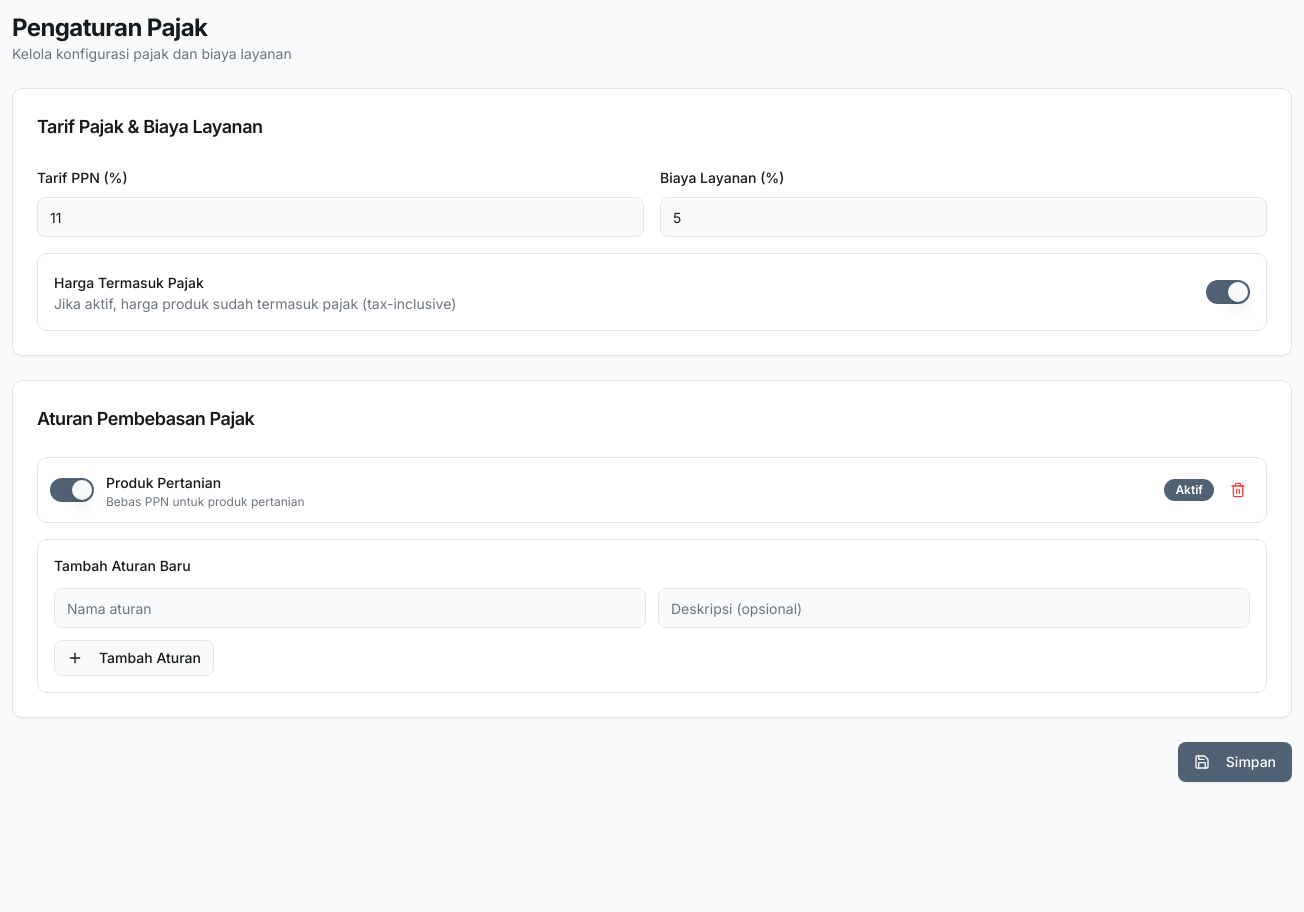
it: TaxSettingsPage › removes an exemption rule
Expected: the text "Produk Pertanian" is shown, [106,474,221,491]
What coordinates should you click on to do the following:
click the 1st button
I would click on:
 (1238, 490)
Its box is [1222,474,1254,506].
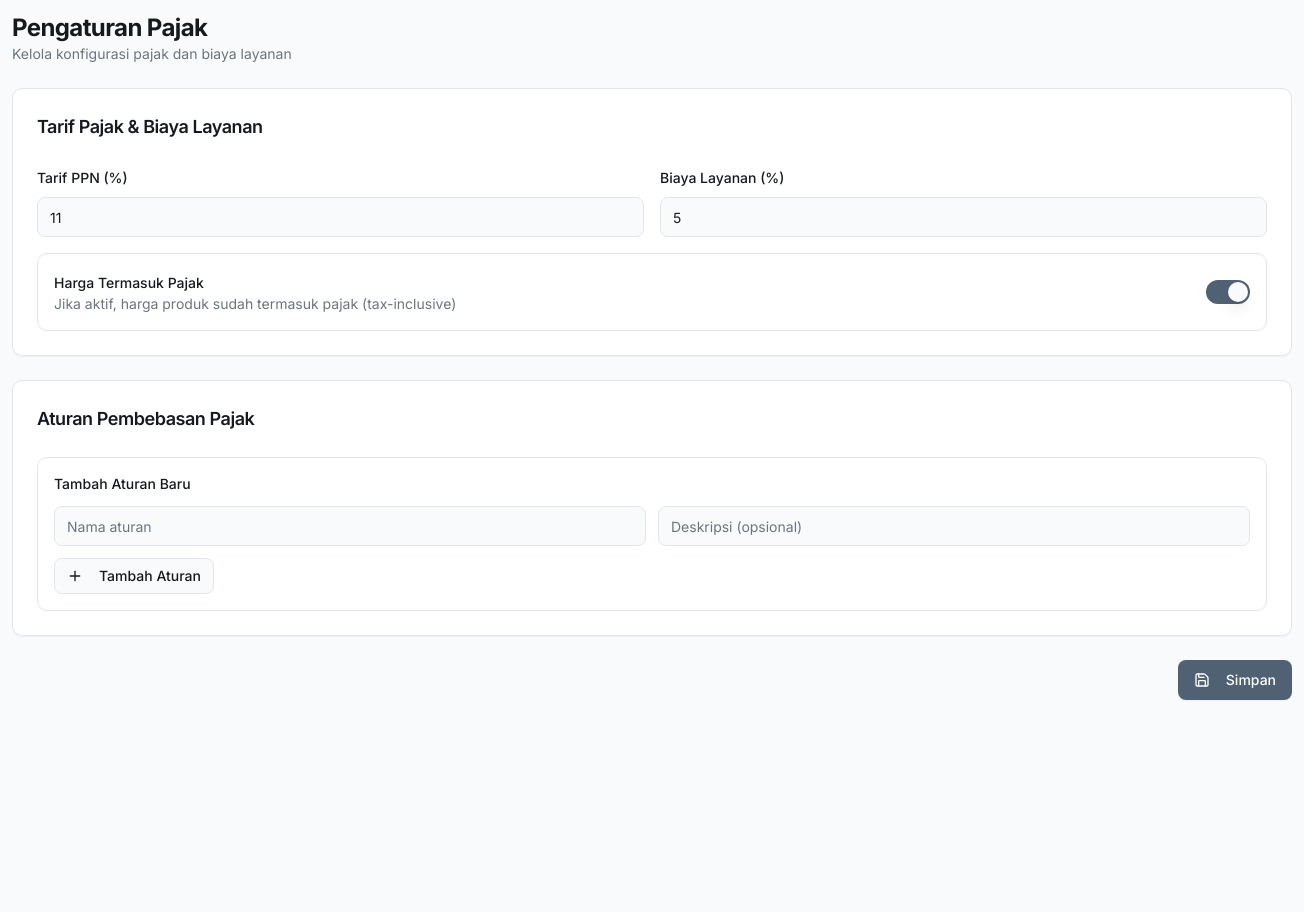
Now the text "Produk Pertanian" is gone
